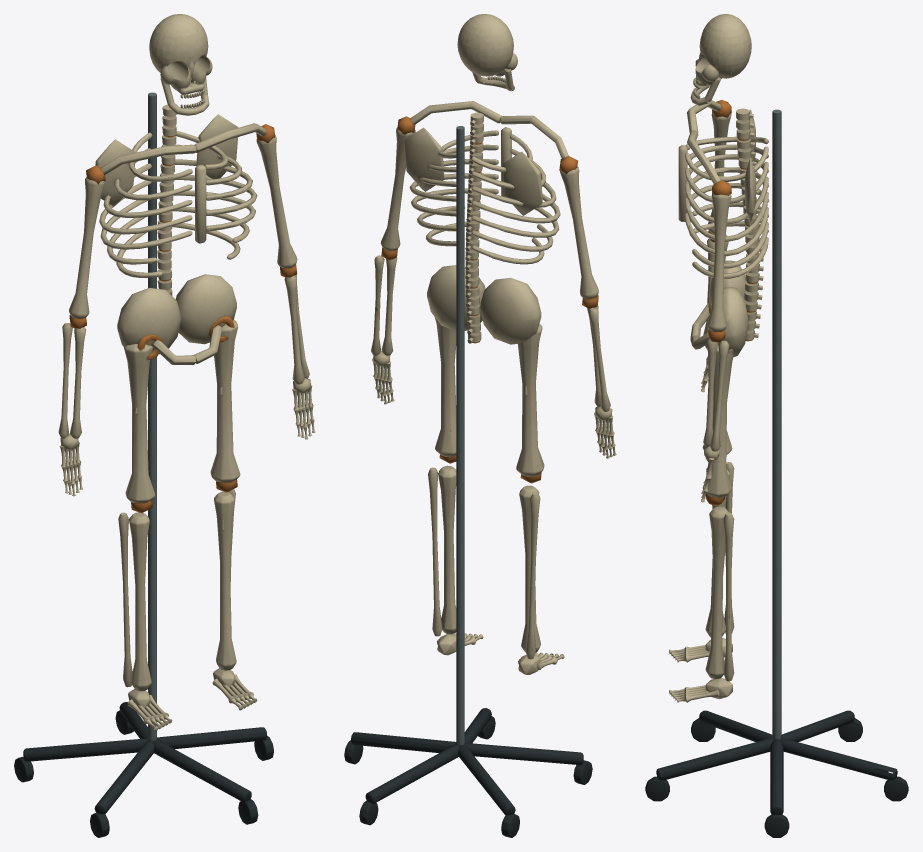
File: skeleton.obj
3 renders of one model, left to right at view 1: azimuth 30°, elevation 25°; view 2: azimuth 150°, elevation 25°; view 3: azimuth 270°, elevation 25°, orthographic. The views are drawn at different scales.
Visible parts, largest first — view 1: skeleton_torso_10, skeleton_static_0, skeleton_pelvis_9, skeleton_head_20, skeleton_shin_left_7, skeleton_thigh_left_6, skeleton_thigh_right_14, skeleton_shin_right_15, skeleton_upper_arm_left_11, skeleton_upper_arm_right_17, skeleton_forearm_left_12, skeleton_forearm_right_18 (+4 smaller); view 2: skeleton_torso_10, skeleton_static_0, skeleton_pelvis_9, skeleton_shin_right_15, skeleton_head_20, skeleton_thigh_left_6, skeleton_shin_left_7, skeleton_thigh_right_14, skeleton_upper_arm_left_11, skeleton_upper_arm_right_17, skeleton_forearm_right_18, skeleton_forearm_left_12 (+4 smaller); view 3: skeleton_static_0, skeleton_torso_10, skeleton_shin_right_15, skeleton_head_20, skeleton_pelvis_9, skeleton_upper_arm_right_17, skeleton_forearm_right_18, skeleton_thigh_right_14, skeleton_foot_right_16, skeleton_upper_arm_left_11, skeleton_shin_left_7, skeleton_foot_left_8 (+1 smaller).
Boxes of the visible parts, left/top/right/bottom form: skeleton_torso_10: left=95, top=104, right=266, bottom=289; skeleton_static_0: left=23, top=92, right=266, bottom=814; skeleton_pelvis_9: left=117, top=274, right=236, bottom=364; skeleton_head_20: left=149, top=14, right=212, bottom=115; skeleton_shin_left_7: left=118, top=500, right=152, bottom=691; skeleton_thigh_left_6: left=123, top=344, right=155, bottom=503; skeleton_thigh_right_14: left=210, top=320, right=240, bottom=482; skeleton_shin_right_15: left=214, top=479, right=237, bottom=670; skeleton_upper_arm_left_11: left=69, top=165, right=105, bottom=318; skeleton_upper_arm_right_17: left=256, top=124, right=297, bottom=268; skeleton_forearm_left_12: left=58, top=315, right=86, bottom=438; skeleton_forearm_right_18: left=279, top=264, right=309, bottom=384; skeleton_torso_10: left=404, top=101, right=568, bottom=298; skeleton_static_0: left=351, top=126, right=583, bottom=815; skeleton_pelvis_9: left=427, top=265, right=541, bottom=344; skeleton_shin_right_15: left=428, top=454, right=456, bottom=636; skeleton_head_20: left=457, top=14, right=517, bottom=91; skeleton_thigh_left_6: left=516, top=324, right=544, bottom=476; skeleton_shin_left_7: left=519, top=472, right=541, bottom=659; skeleton_thigh_right_14: left=434, top=317, right=456, bottom=457; skeleton_upper_arm_left_11: left=559, top=156, right=598, bottom=299; skeleton_upper_arm_right_17: left=380, top=116, right=415, bottom=251; skeleton_forearm_right_18: left=371, top=247, right=397, bottom=355; skeleton_forearm_left_12: left=582, top=295, right=610, bottom=411; skeleton_static_0: left=656, top=109, right=897, bottom=814; skeleton_torso_10: left=678, top=100, right=769, bottom=292; skeleton_shin_right_15: left=705, top=494, right=734, bottom=681; skeleton_head_20: left=690, top=14, right=751, bottom=105; skeleton_pelvis_9: left=690, top=260, right=762, bottom=356; skeleton_upper_arm_right_17: left=707, top=180, right=731, bottom=331; skeleton_forearm_right_18: left=703, top=329, right=729, bottom=451; skeleton_thigh_right_14: left=702, top=345, right=733, bottom=498; skeleton_foot_right_16: left=669, top=678, right=732, bottom=702; skeleton_upper_arm_left_11: left=708, top=100, right=731, bottom=234; skeleton_shin_left_7: left=705, top=458, right=734, bottom=637; skeleton_foot_left_8: left=669, top=638, right=732, bottom=662.
Bounding box in the file's own units: 0.5641 × 1.69 × 0.5248.
Materials: 1 (1 with a texture image).
